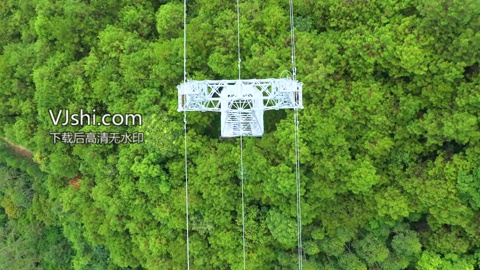tower_body: (172, 76, 310, 141)
